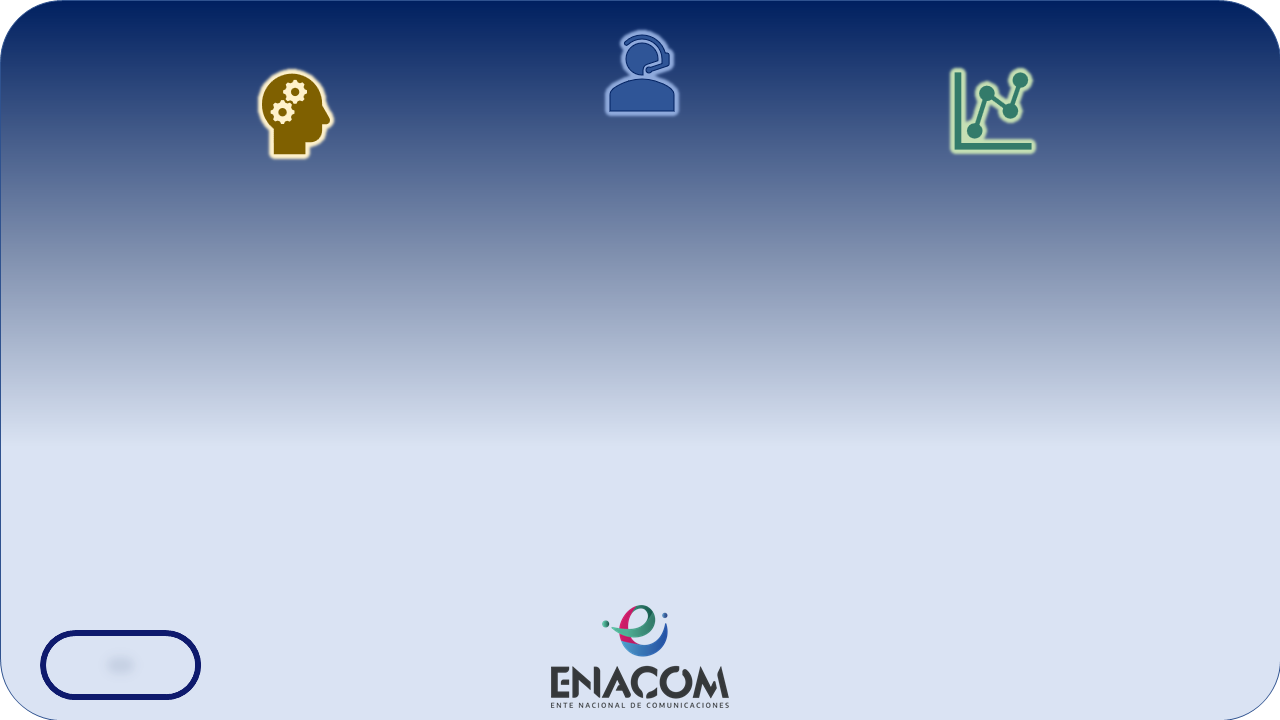

Layout of this report page (visuals, bound fields, positions):
{"tool":"powerbi","page":{"name":"Portada","canvas":[1280,720],"ordinal":0},"visuals":[{"type":"shape","box":[160,544,192,96],"z":0},{"type":"shape","box":[576,544,240,96],"z":1000},{"type":"shape","box":[1008,544,192,96],"z":2000},{"type":"textbox","box":[464,656,368,64],"z":3000}]}

Visuals, with their boxes in screenshot pixels (x1, y1, x2, y2), scaled from the page's 1280x720 canvas onto the 1280x720 screenshot:
shape: {"x1": 160, "y1": 544, "x2": 352, "y2": 640}
shape: {"x1": 576, "y1": 544, "x2": 816, "y2": 640}
shape: {"x1": 1008, "y1": 544, "x2": 1200, "y2": 640}
textbox: {"x1": 464, "y1": 656, "x2": 832, "y2": 719}
